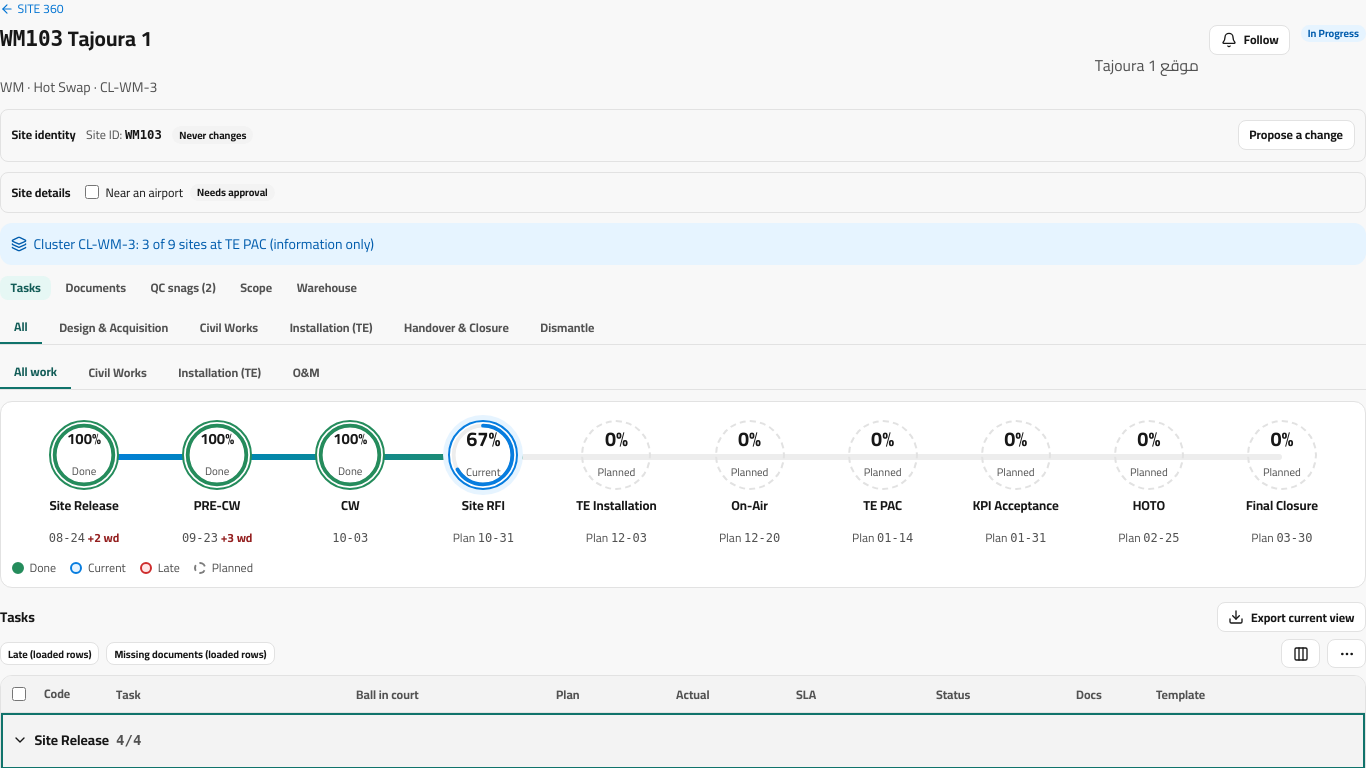
Test: Q473: Propose a change on the site page › shows the Site ID as never changing and proposes the names and the coordinates with a reason; the site keeps its values
The width and height of the screenshot is (1366, 768).
Expected: the text with test id "site-identity-site-code" reads "WM103", [125,128,162,142]
Expected: the text with test id "site-identity-immutable" reads "Never changes", [179,125,246,145]
Click the button with test id "site-identity-open".
click(1296, 135)  # box [1238,120,1354,150]
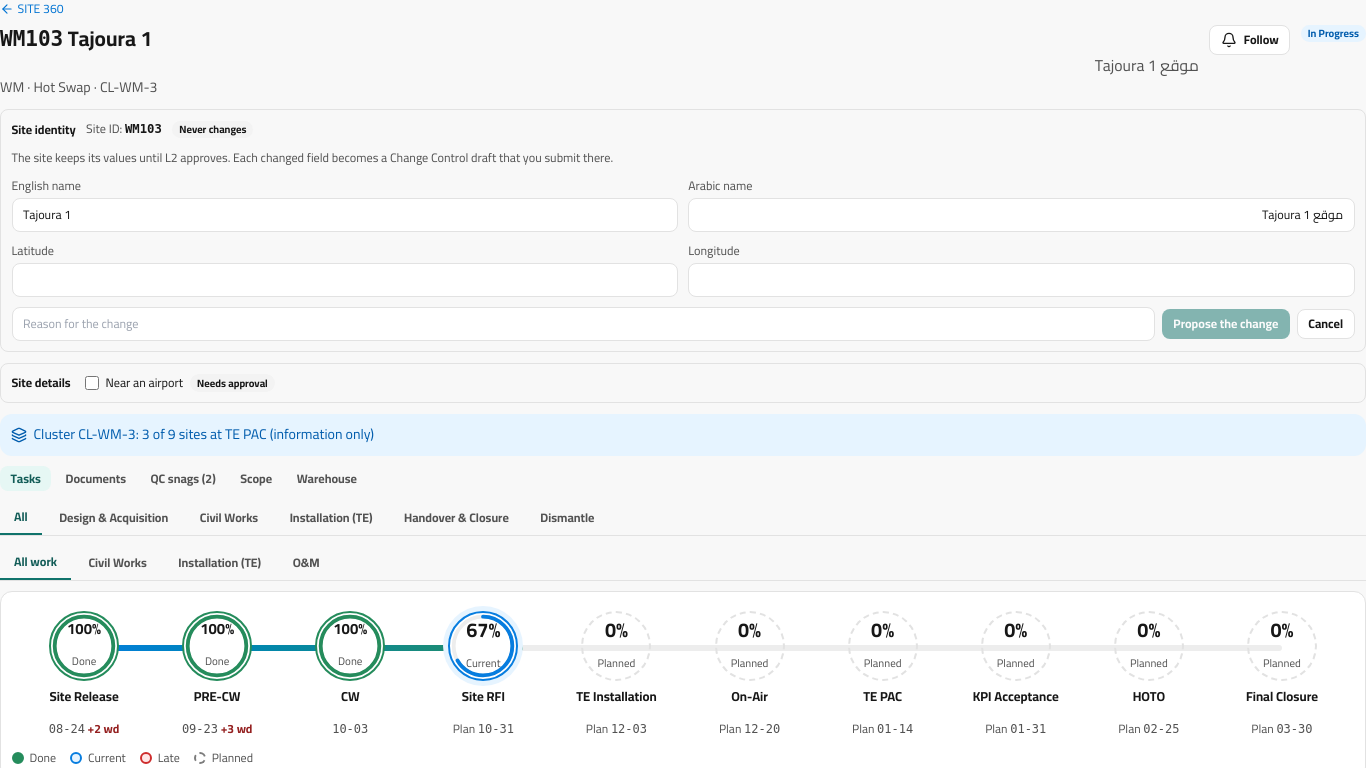
Expected: the text with test id "site-identity-note" does not show "System Admin approves", [12,146,613,169]
Expected: the button with test id "site-identity-send" is disabled, [1162,309,1290,339]
Replace the text in the field with test id "site-identity-name" with "Corrected name" at (345, 215), box [12,198,678,232]
Replace the text in the field with test id "site-identity-name_ar" with "اسم مصحح" at (1021, 215), box [688,198,1355,232]
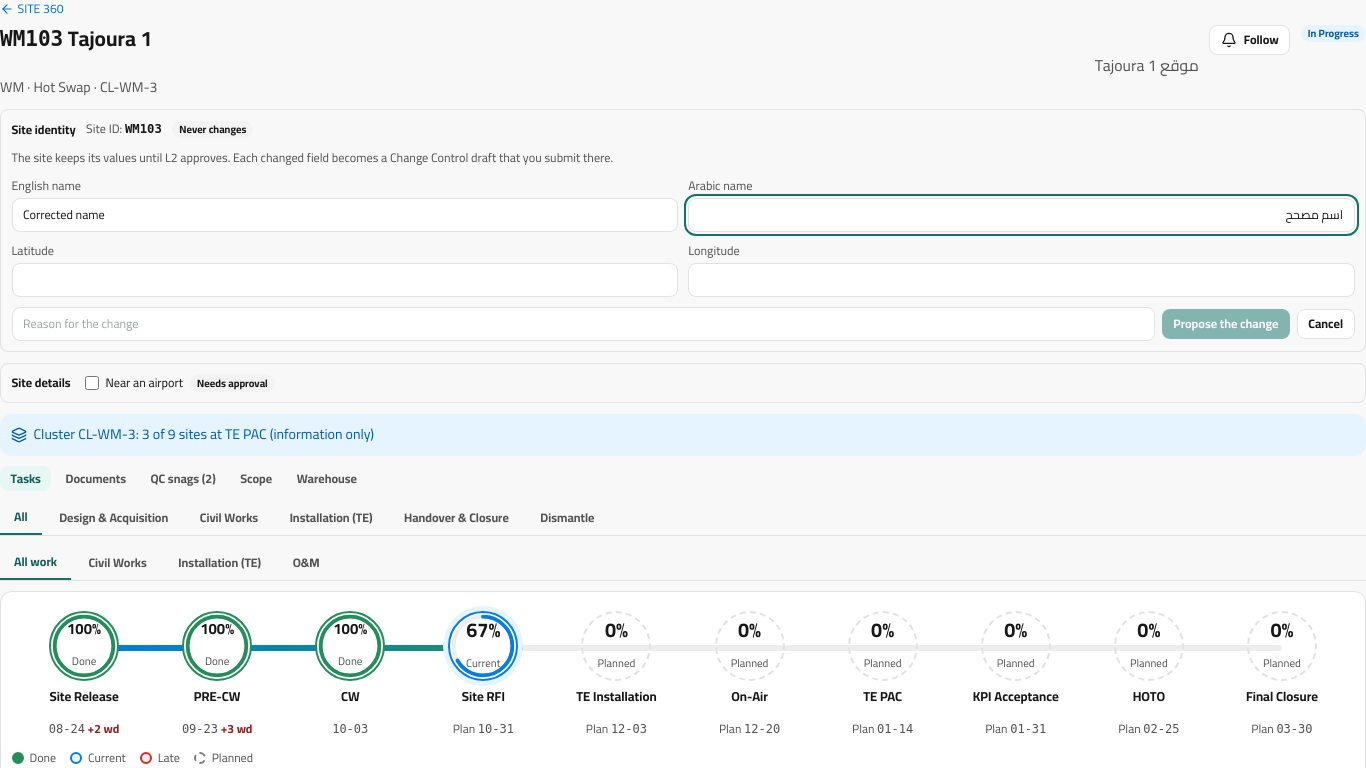
Type "32.887" into the field with test id "site-identity-latitude".
click(345, 280); type("32.887")  # box [12,263,678,296]
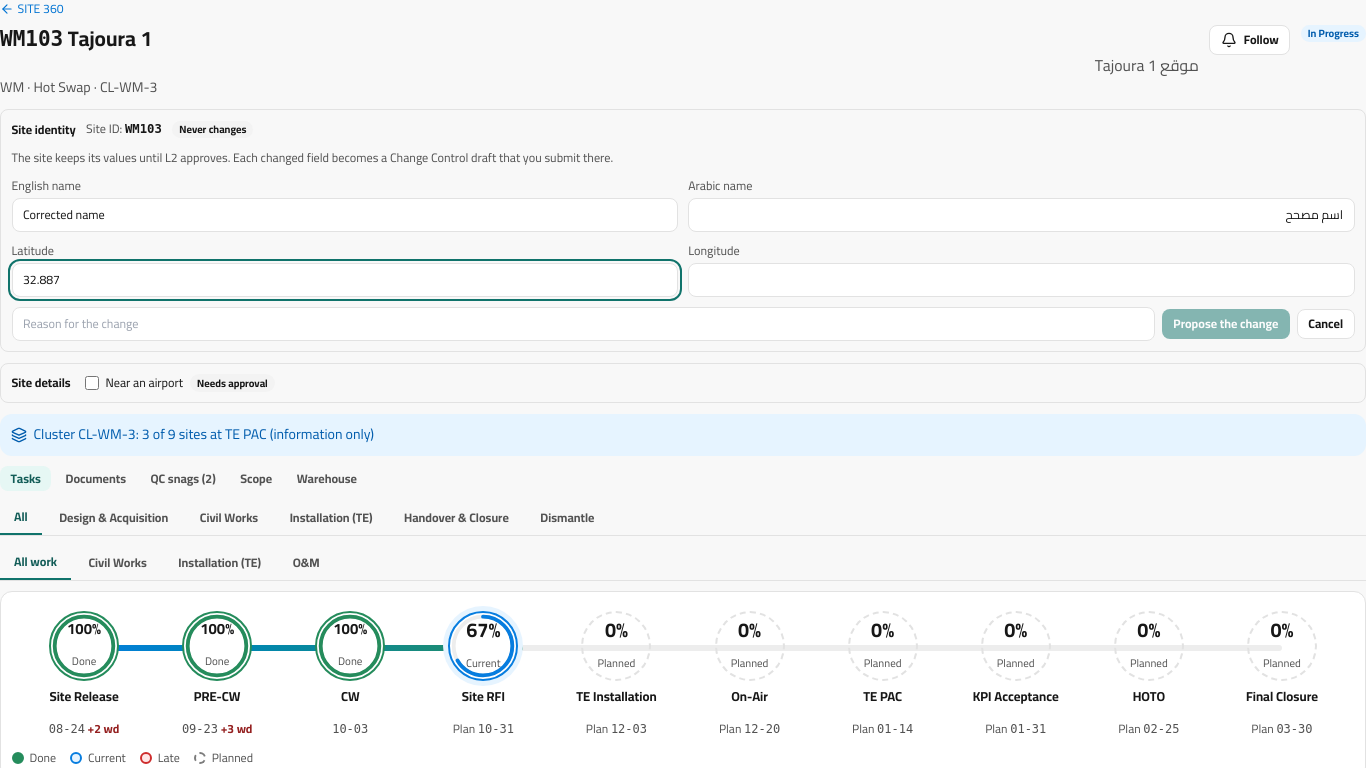
Expected: the button with test id "site-identity-send" is disabled, [1162,309,1290,339]
Type "spelling in the Master" into the field with test id "site-identity-reason".
click(583, 324); type("spelling in the Master")  # box [12,307,1155,340]
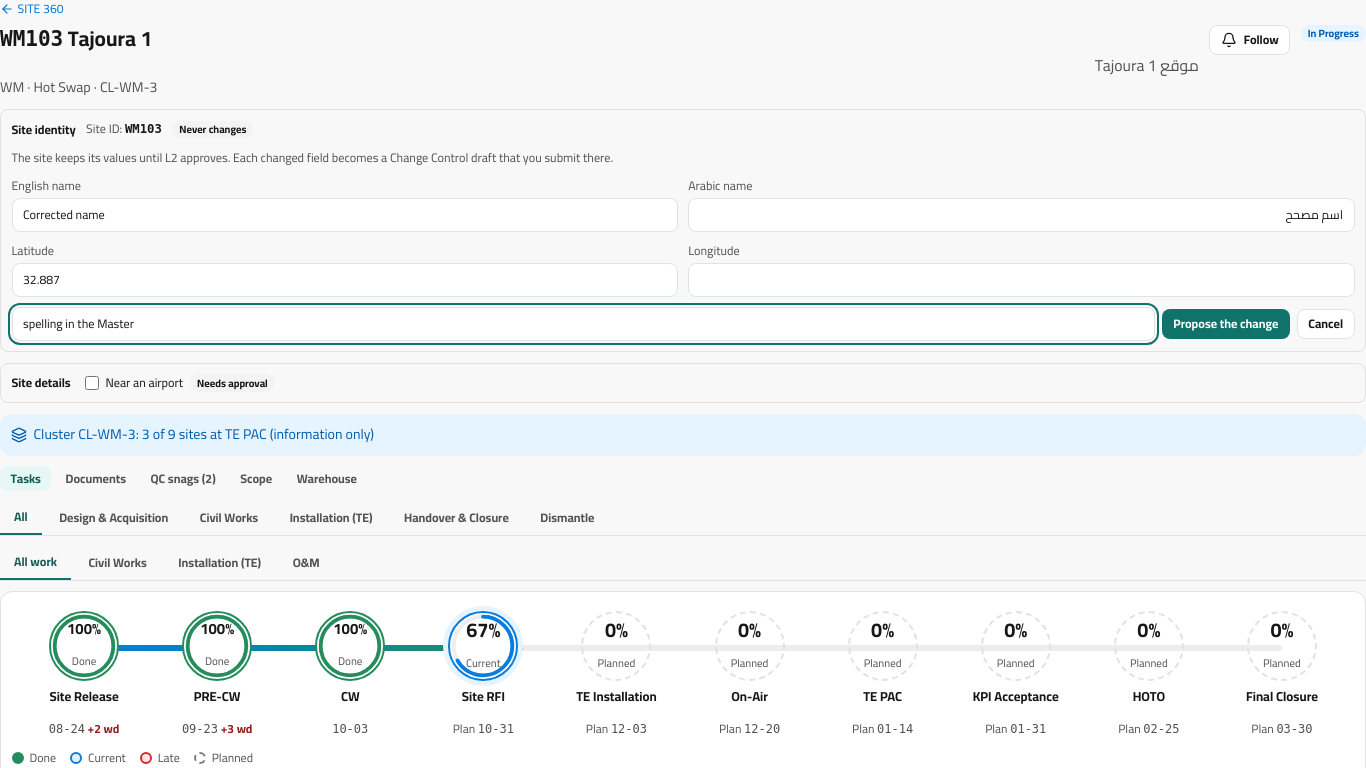
Click the button with test id "site-identity-send".
click(1226, 324)  # box [1162,309,1290,339]
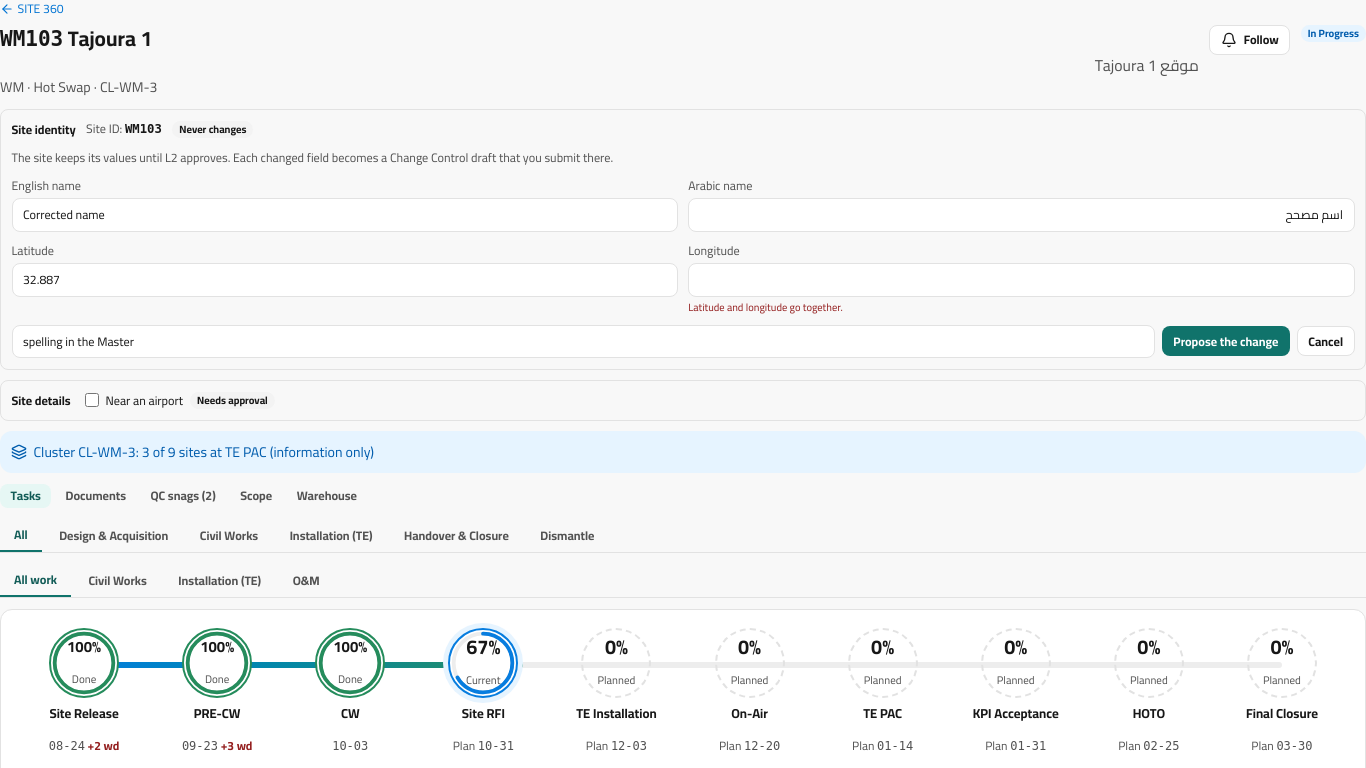
Expected: the message with test id "site-identity-error-longitude" reads "Latitude and longitude go together.", [688,297,843,317]
Type "13.191" into the field with test id "site-identity-longitude".
click(1021, 280); type("13.191")  # box [688,263,1355,296]
Click the button with test id "site-identity-send".
click(1226, 341)  # box [1162,326,1290,356]
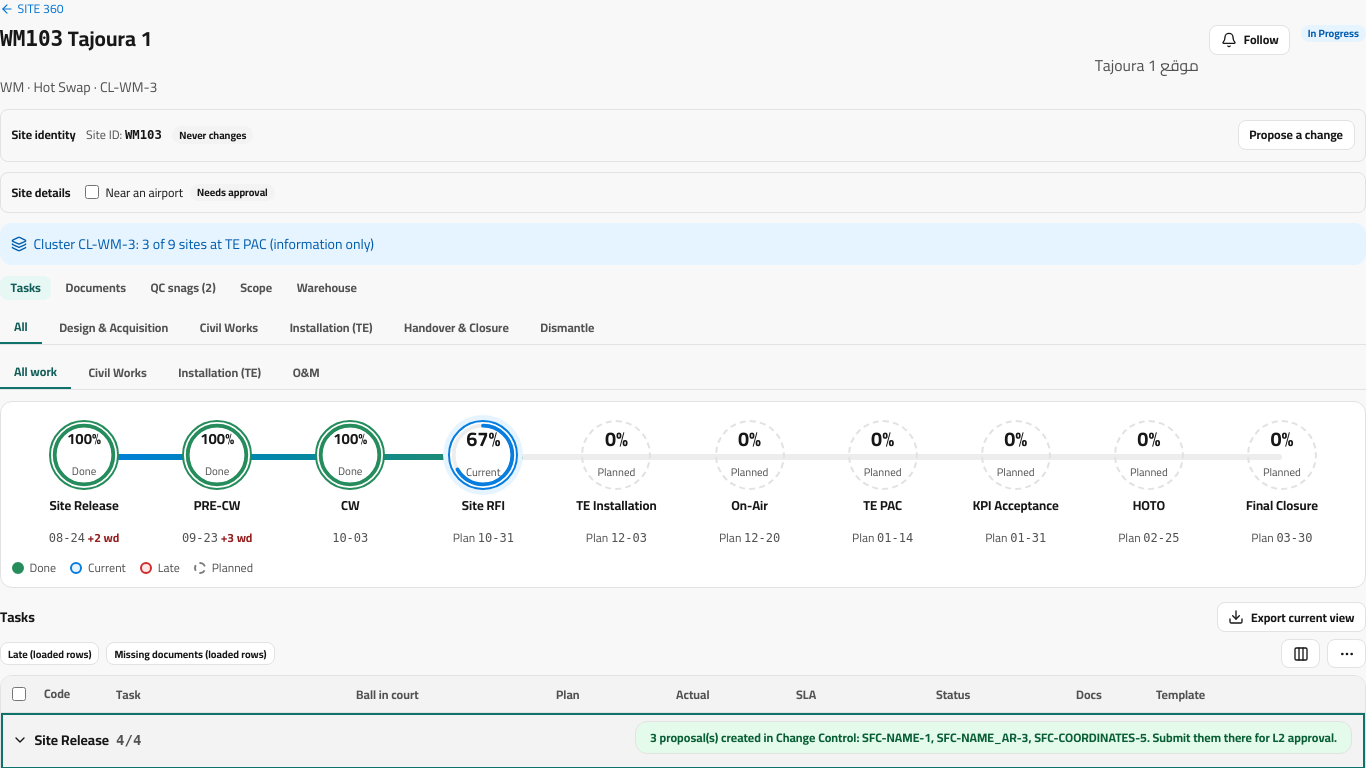
Expected: the heading with test id "site-title" does not show "Corrected name", [0,18,152,58]
Expected: the text "3 proposal(s) created in Change Control" is shown, [650,726,1337,748]
Expected: the element with test id "site-identity-form" is gone
